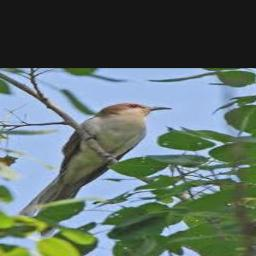Cuckoo: (19, 103, 173, 237)
